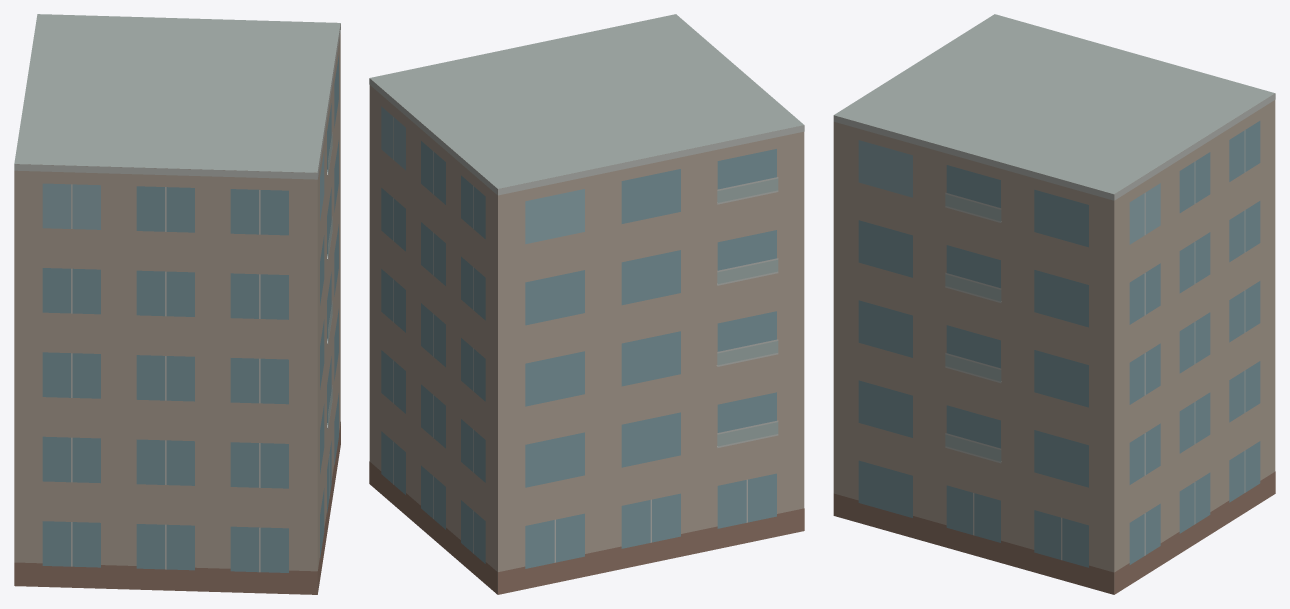
File: survey-upis-32902339.glb
The picture shows the model from 3 angles, left to right: view 1: azimuth 30°, elevation 25°; view 2: azimuth 150°, elevation 25°; view 3: azimuth 270°, elevation 25°; orthographic projection. The views are drawn at different scales.
Visible parts, largest first — view 1: survey-upis-32902339.tmp; view 2: survey-upis-32902339.tmp; view 3: survey-upis-32902339.tmp.
Part boxes in pixels (x1,y1,x2,y2): survey-upis-32902339.tmp: (14, 14, 340, 594); survey-upis-32902339.tmp: (369, 14, 804, 594); survey-upis-32902339.tmp: (833, 14, 1275, 594).
Size of the model in its own units: 14.73 by 15.25 by 15.25.
